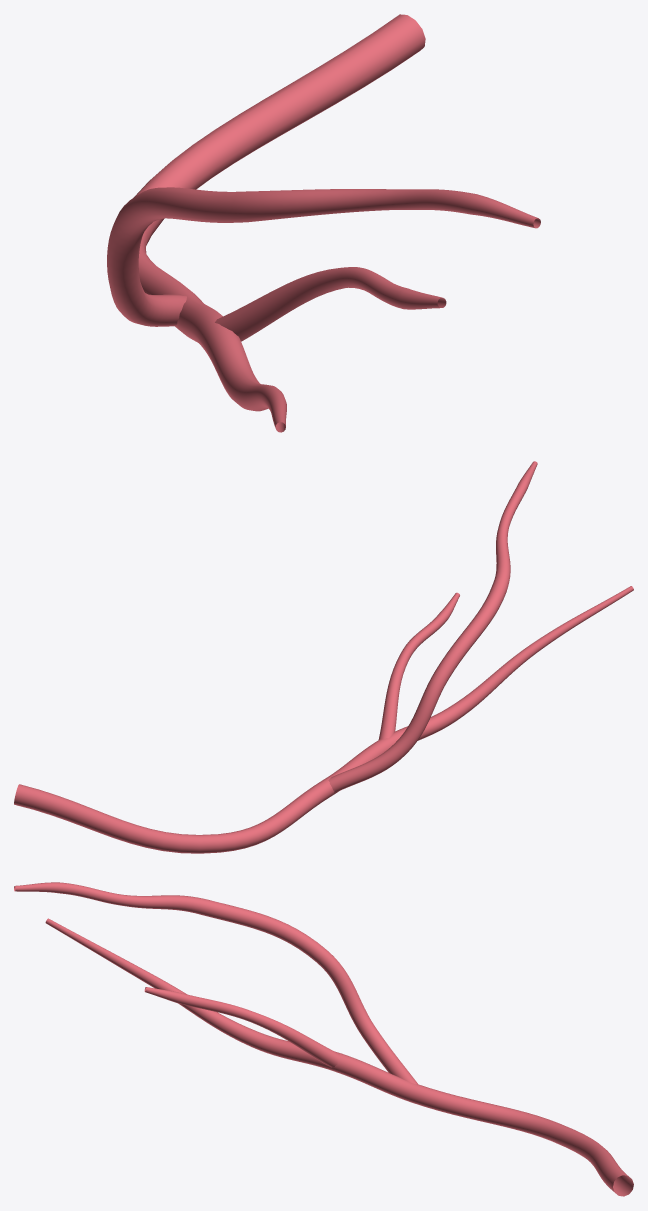
The picture shows the model from 3 angles, top to bottom: view 1: azimuth 30°, elevation 25°; view 2: azimuth 150°, elevation 25°; view 3: azimuth 270°, elevation 25°; orthographic projection. The views are drawn at different scales.
Parts seen in each view (by area): view 1: ZA_e7b2ee747f447912; view 2: ZA_e7b2ee747f447912; view 3: ZA_e7b2ee747f447912.
Part boxes in pixels (x1,y1,x2,y2): ZA_e7b2ee747f447912: (107, 14, 540, 432); ZA_e7b2ee747f447912: (14, 461, 633, 853); ZA_e7b2ee747f447912: (14, 882, 633, 1196).
Size of the model in its own units: 0.015 by 0.00896 by 0.0223.
